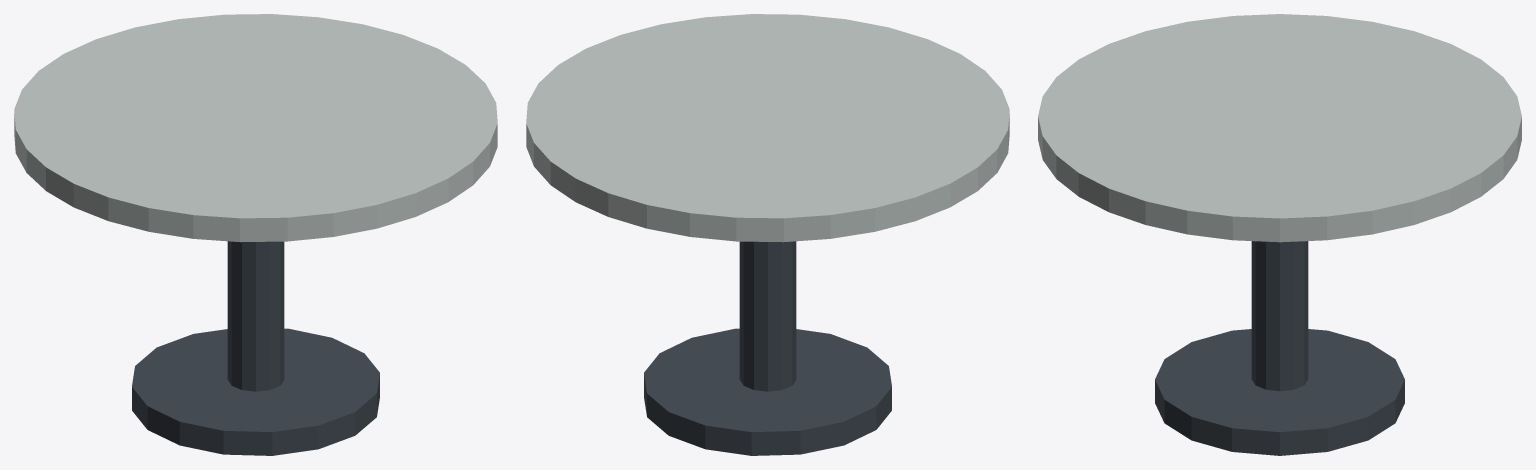
Rendered from RoundTable.fbx.
The picture shows the model from 3 angles, left to right: view 1: azimuth 30°, elevation 25°; view 2: azimuth 150°, elevation 25°; view 3: azimuth 270°, elevation 25°; orthographic projection.
Visible parts, largest first — view 1: RoundTable; view 2: RoundTable; view 3: RoundTable.
Part boxes in pixels (bbox=[...]): RoundTable: bbox=[14, 14, 497, 455]; RoundTable: bbox=[526, 14, 1009, 455]; RoundTable: bbox=[1038, 14, 1521, 455].
Bounding box in the file's own units: 120 × 78.5 × 120.
1 material, 1 textured.
